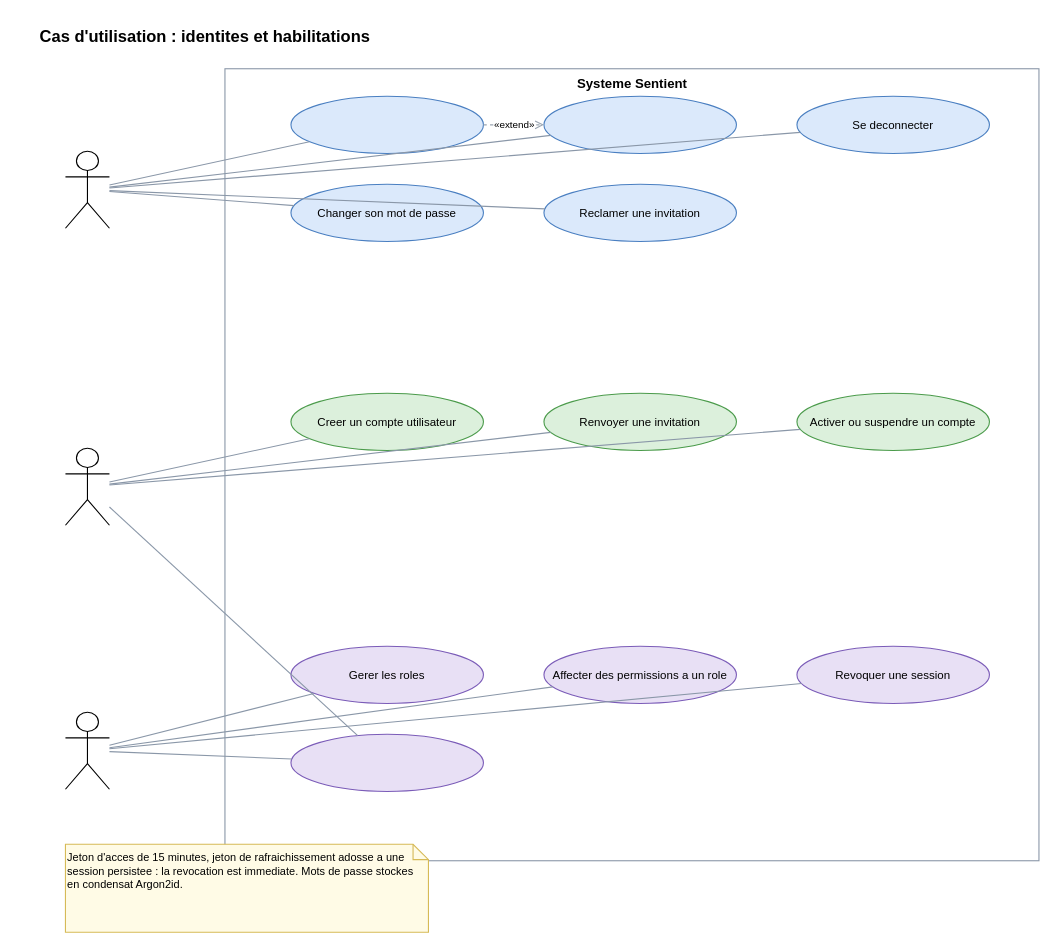
Image size: 1058x952. Some labels were removed from this diagram. The shapes that lost their labels are listed below. From the top down, each one's centre as x and y in pixels, then its label:
the point at 386,124: S'authentifier (email + mot de passe)
the point at 639,124: Rafraichir son jeton d'acces
the point at 86,189: Utilisateur
the point at 86,486: Administrateur RH
the point at 86,750: Administrateur systeme
the point at 386,762: Consulter les evenements de securite
